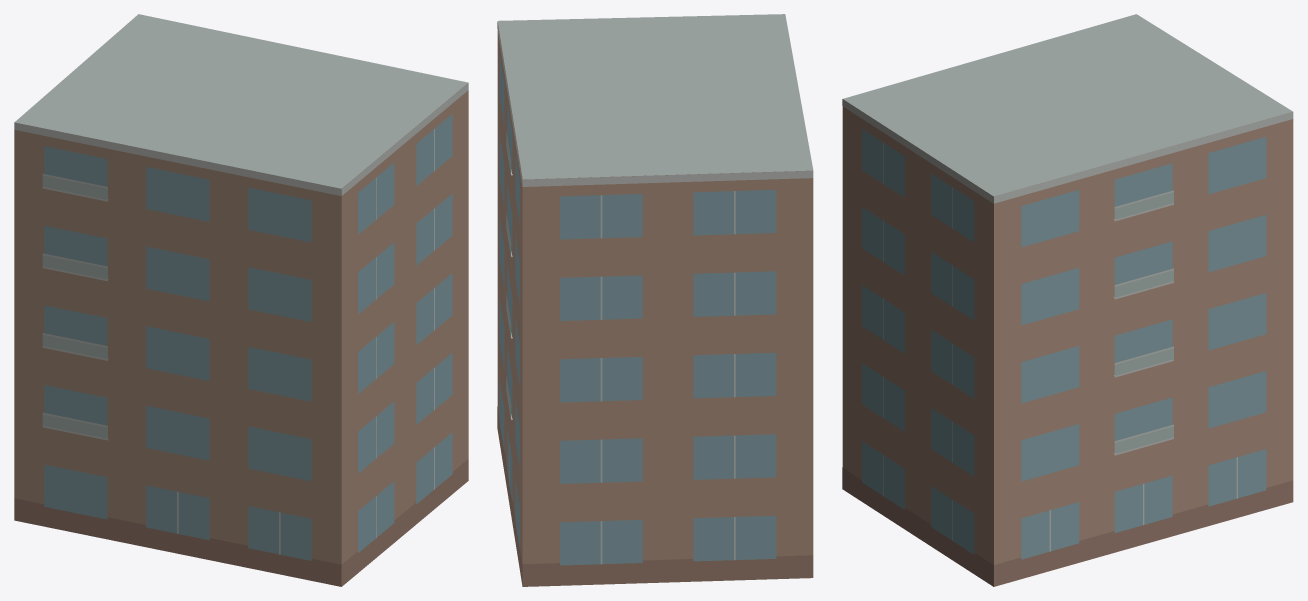
The model's file is survey-upis-33044295.glb.
3 renders of one model, left to right at view 1: azimuth 30°, elevation 25°; view 2: azimuth 150°, elevation 25°; view 3: azimuth 270°, elevation 25°, orthographic. The views are drawn at different scales.
Parts seen in each view (by area): view 1: survey-upis-33044295.tmp; view 2: survey-upis-33044295.tmp; view 3: survey-upis-33044295.tmp.
Part boxes in pixels (x1,y1,x2,y2): survey-upis-33044295.tmp: [14, 14, 468, 586]; survey-upis-33044295.tmp: [497, 14, 813, 586]; survey-upis-33044295.tmp: [842, 14, 1293, 586].
Size of the model in its own units: 13.25 by 13.2 by 13.82.
